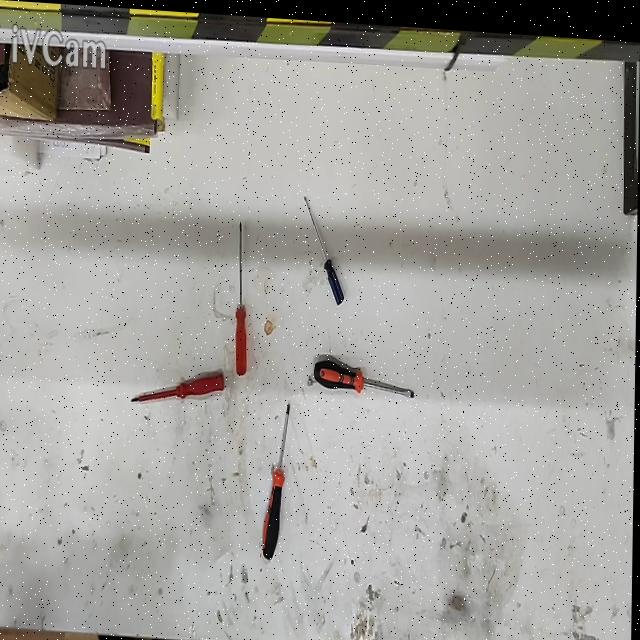Screwdriver: (264, 400, 292, 556), (305, 194, 346, 300), (315, 354, 416, 392), (132, 371, 225, 401), (236, 219, 248, 372)
